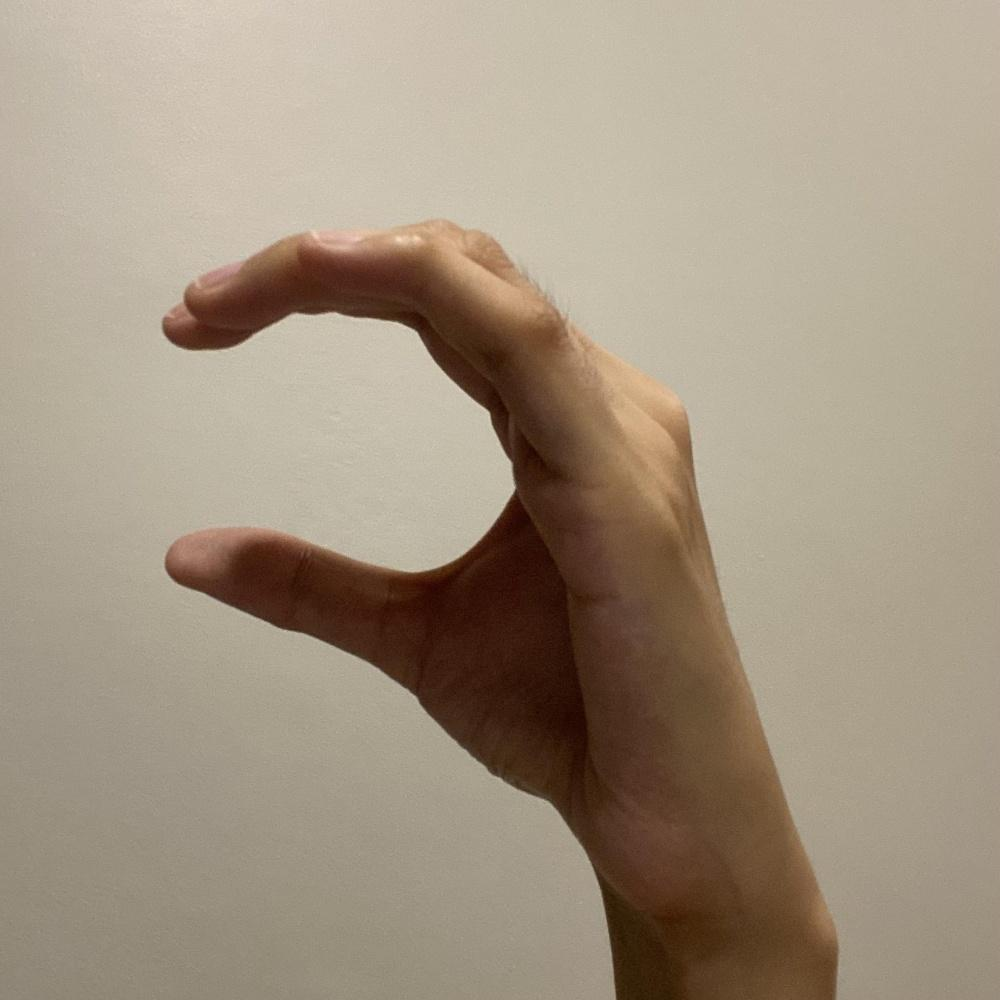c: (151, 207, 785, 919)
